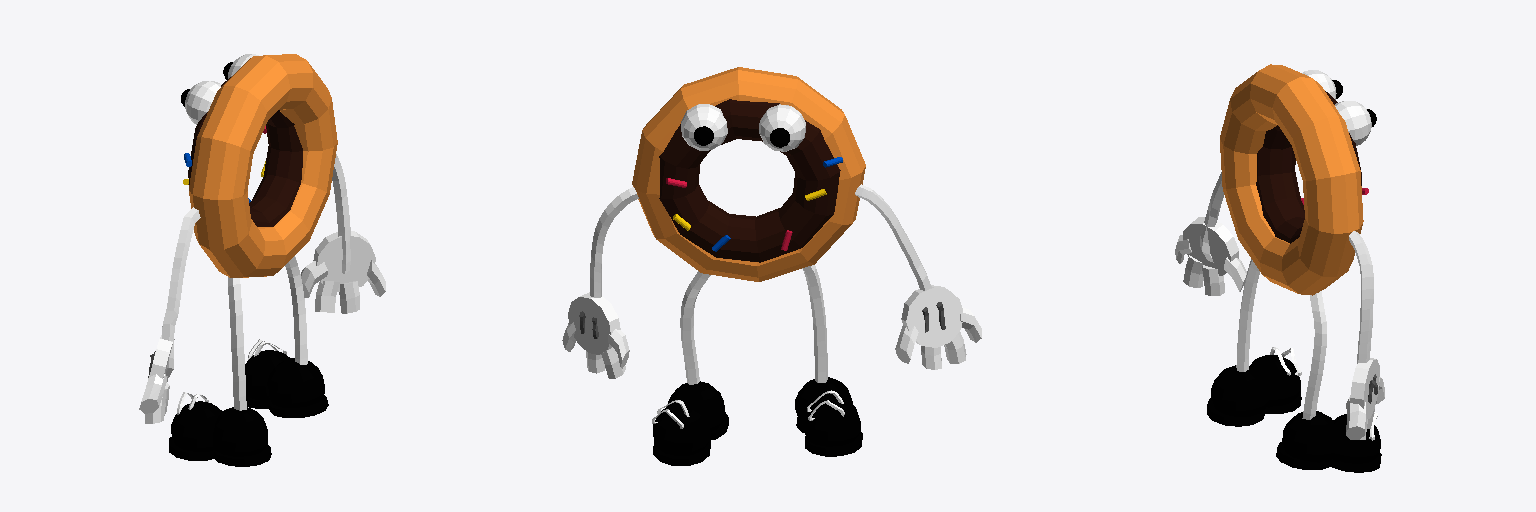
The picture shows the model from 3 angles: view 1: azimuth 30°, elevation 25°; view 2: azimuth 150°, elevation 25°; view 3: azimuth 270°, elevation 25°; orthographic projection.
Visible parts, largest first — view 1: group[number redacted], group[number redacted], group[number redacted], group[number redacted], group[number redacted], group[number redacted], group[number redacted], group[number redacted], group[number redacted], group[number redacted], group[number redacted]; view 2: group[number redacted], group[number redacted], group[number redacted], group[number redacted], group[number redacted], group[number redacted], group[number redacted], group[number redacted], group[number redacted], group[number redacted], group[number redacted], group[number redacted]; view 3: group[number redacted], group[number redacted], group[number redacted], group[number redacted], group[number redacted], group[number redacted], group[number redacted], group[number redacted], group[number redacted], group[number redacted], group[number redacted].
Part boxes in pixels (left/top/right/bottom): group[number redacted]: left=189, top=54, right=337, bottom=277; group[number redacted]: left=169, top=392, right=271, bottom=466; group[number redacted]: left=245, top=339, right=328, bottom=417; group[number redacted]: left=301, top=231, right=385, bottom=313; group[number redacted]: left=188, top=77, right=302, bottom=226; group[number redacted]: left=162, top=207, right=200, bottom=376; group[number redacted]: left=228, top=277, right=246, bottom=410; group[number redacted]: left=139, top=335, right=174, bottom=423; group[number redacted]: left=285, top=256, right=307, bottom=364; group[number redacted]: left=332, top=154, right=350, bottom=273; group[number redacted]: left=185, top=81, right=221, bottom=124; group[number redacted]: left=632, top=67, right=865, bottom=281; group[number redacted]: left=659, top=99, right=840, bottom=262; group[number redacted]: left=652, top=381, right=728, bottom=465; group[number redacted]: left=895, top=285, right=981, bottom=369; group[number redacted]: left=795, top=377, right=862, bottom=456; group[number redacted]: left=562, top=292, right=629, bottom=378; group[number redacted]: left=802, top=265, right=827, bottom=382; group[number redacted]: left=680, top=271, right=710, bottom=384; group[number redacted]: left=590, top=187, right=638, bottom=297; group[number redacted]: left=855, top=184, right=931, bottom=290; group[number redacted]: left=759, top=104, right=805, bottom=151; group[number redacted]: left=681, top=104, right=727, bottom=150; group[number redacted]: left=1220, top=64, right=1363, bottom=295; group[number redacted]: left=1207, top=347, right=1301, bottom=426; group[number redacted]: left=1276, top=411, right=1381, bottom=472; group[number redacted]: left=1256, top=91, right=1361, bottom=243; group[number redacted]: left=1175, top=217, right=1246, bottom=295; group[number redacted]: left=1346, top=358, right=1384, bottom=439; group[number redacted]: left=1349, top=231, right=1373, bottom=363; group[number redacted]: left=1302, top=291, right=1326, bottom=419; group[number redacted]: left=1236, top=259, right=1259, bottom=371; group[number redacted]: left=1335, top=101, right=1371, bottom=145; group[number redacted]: left=1200, top=172, right=1223, bottom=262.
Bounding box in the file's own units: 0.8398 × 0.9159 × 0.4632.